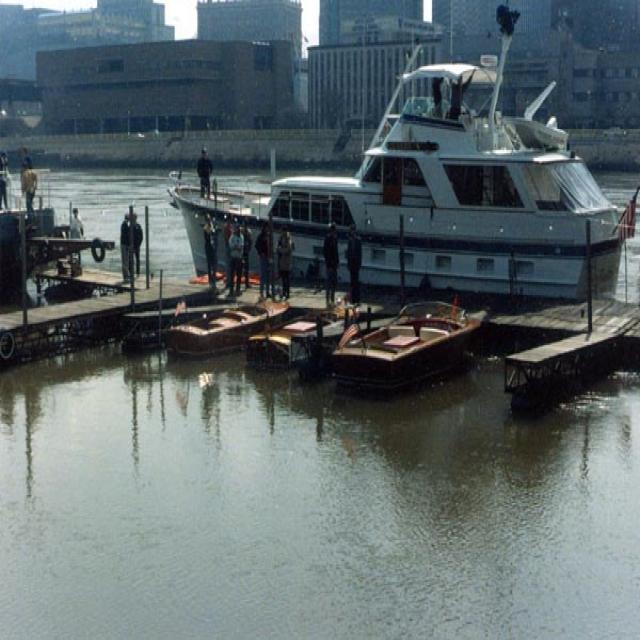houseboat: (175, 55, 622, 306)
